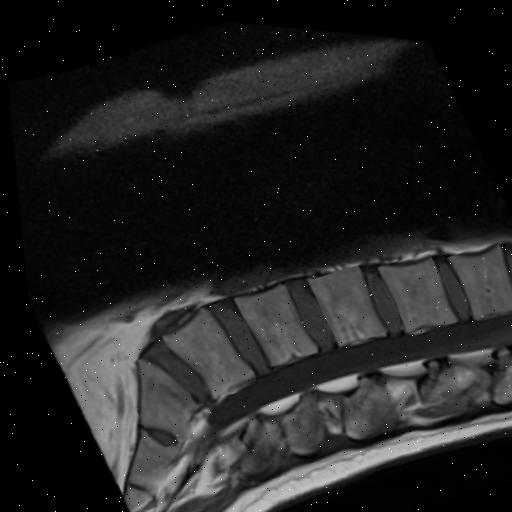L1: (445, 238, 512, 311)
L2: (373, 250, 450, 324)
L3: (302, 258, 381, 340)
L4: (230, 280, 310, 363)
L5: (155, 305, 246, 397)
S1: (129, 357, 196, 441)
